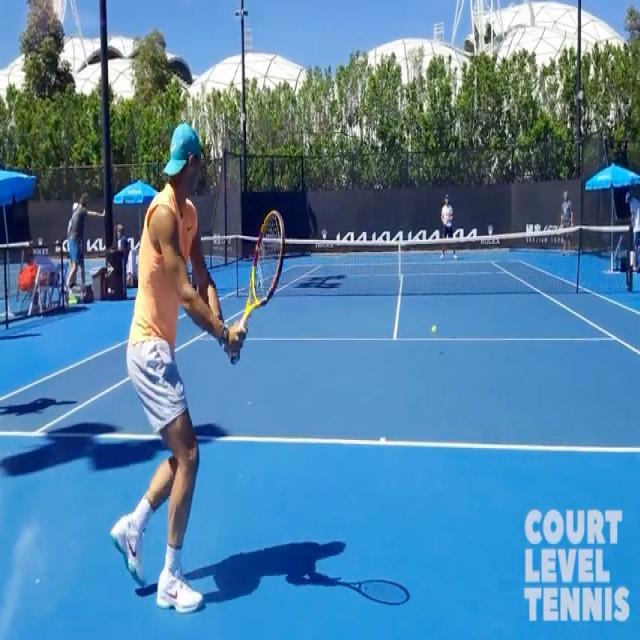backhand-ready: (113, 123, 284, 614)
